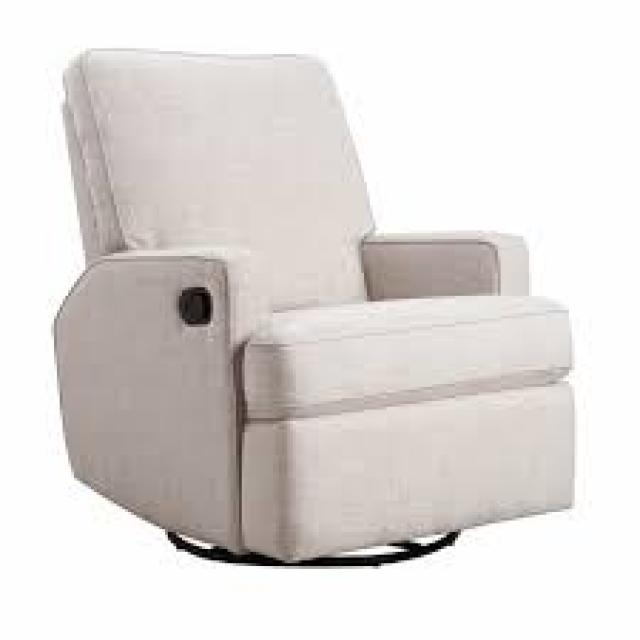chair: (22, 32, 596, 595)
